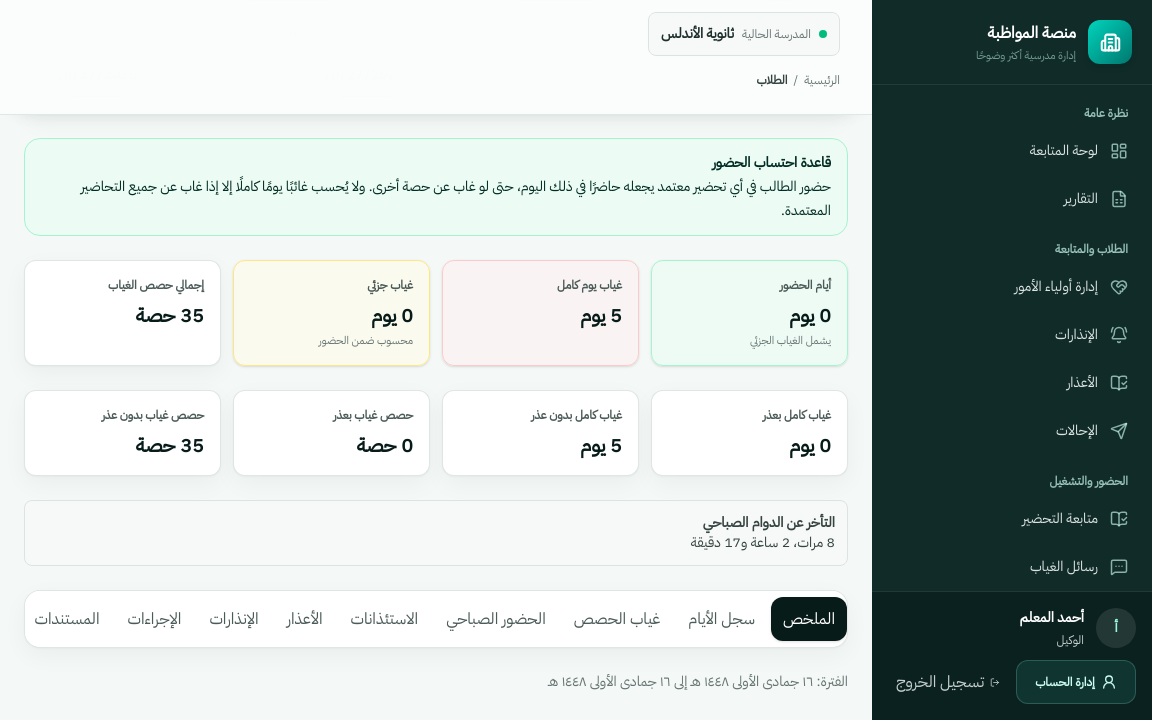
it: student documents tab (Phase 12) › previews before generating and shows the frozen issue value
(page scrolled)
Click the button "المستندات". click: (67, 619)
box: [23,597,112,641]
(page scrolled)
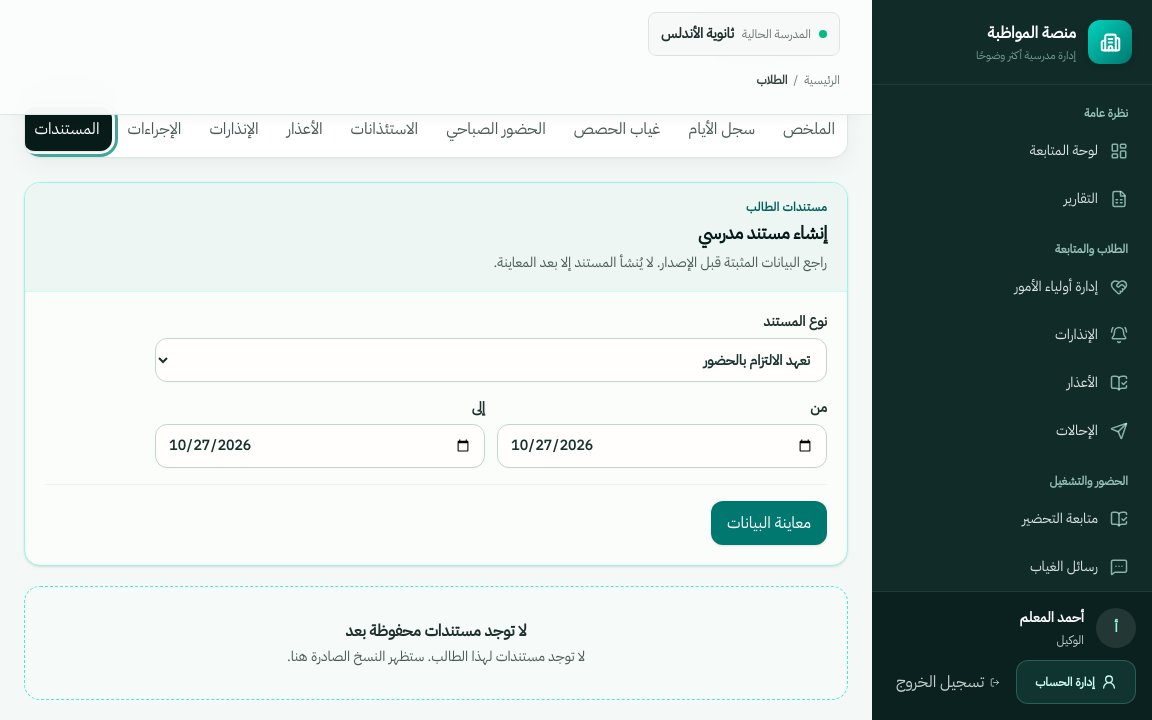
Select "الإنذار الثاني" in the dropdown with test id "document-type". click: (491, 360)
box: [155,338,827,382]
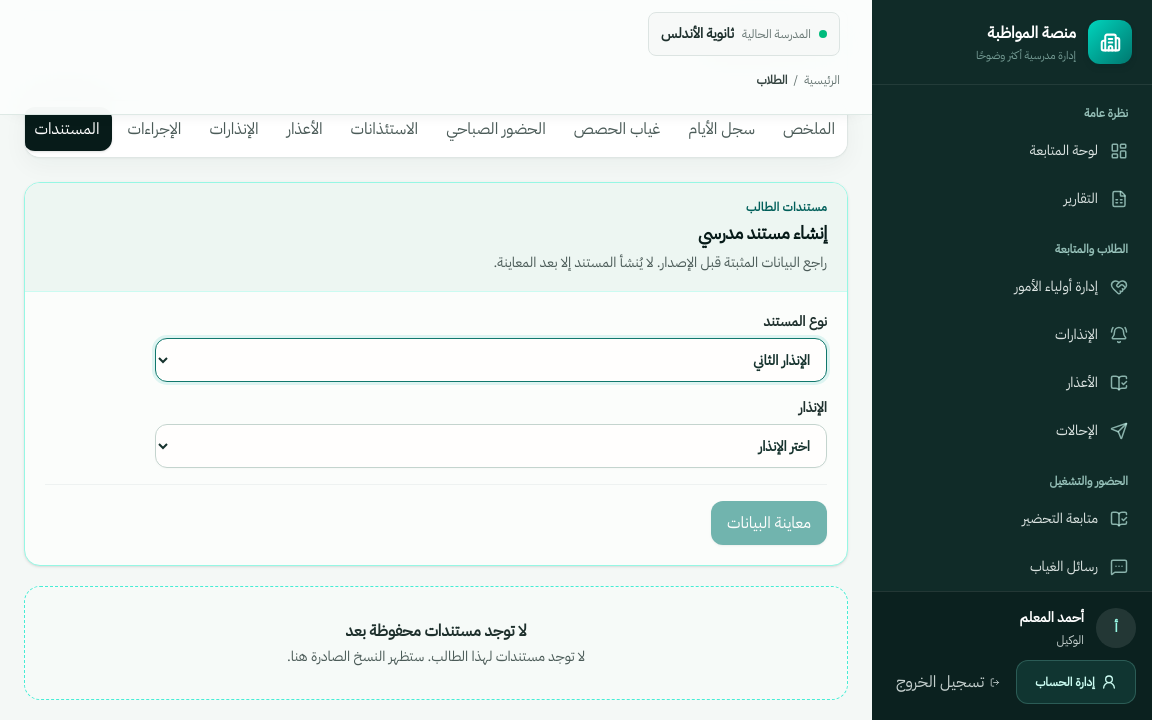
Select "الإنذار الثاني — غياب يوم كامل بدون عذر" in the dropdown with test id "document-warning". click: (491, 446)
box: [155,424,827,468]
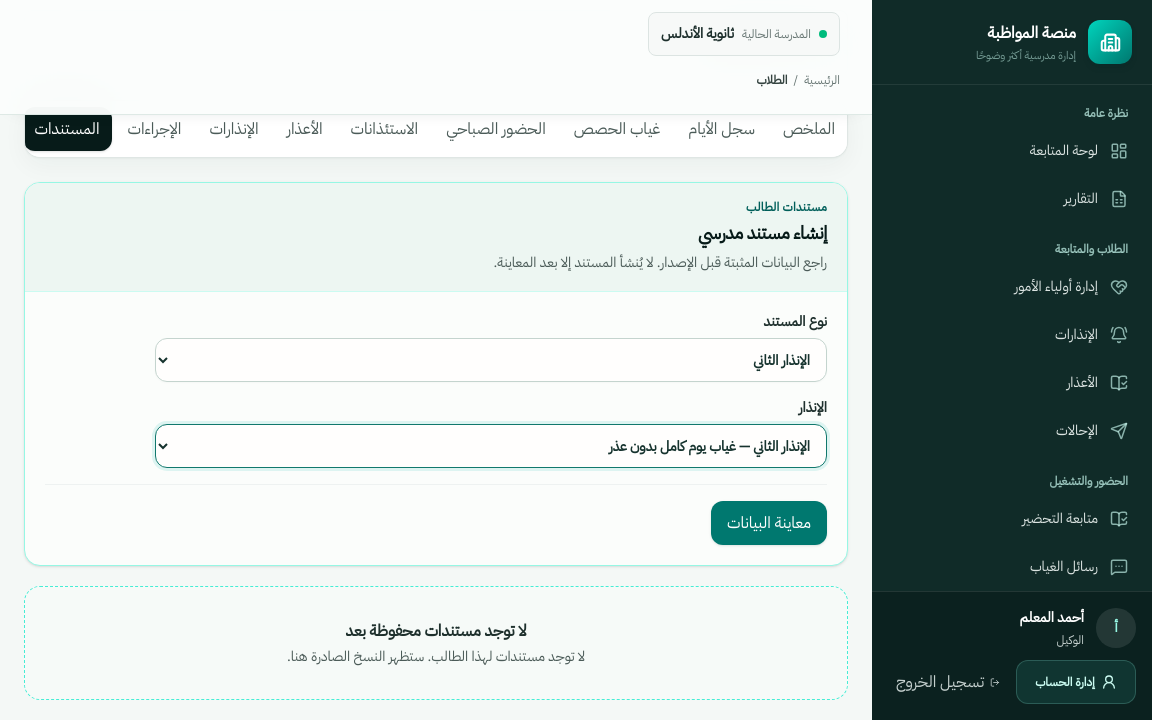
Click the button with test id "preview-document". click: (769, 523)
box: [711,501,827,545]
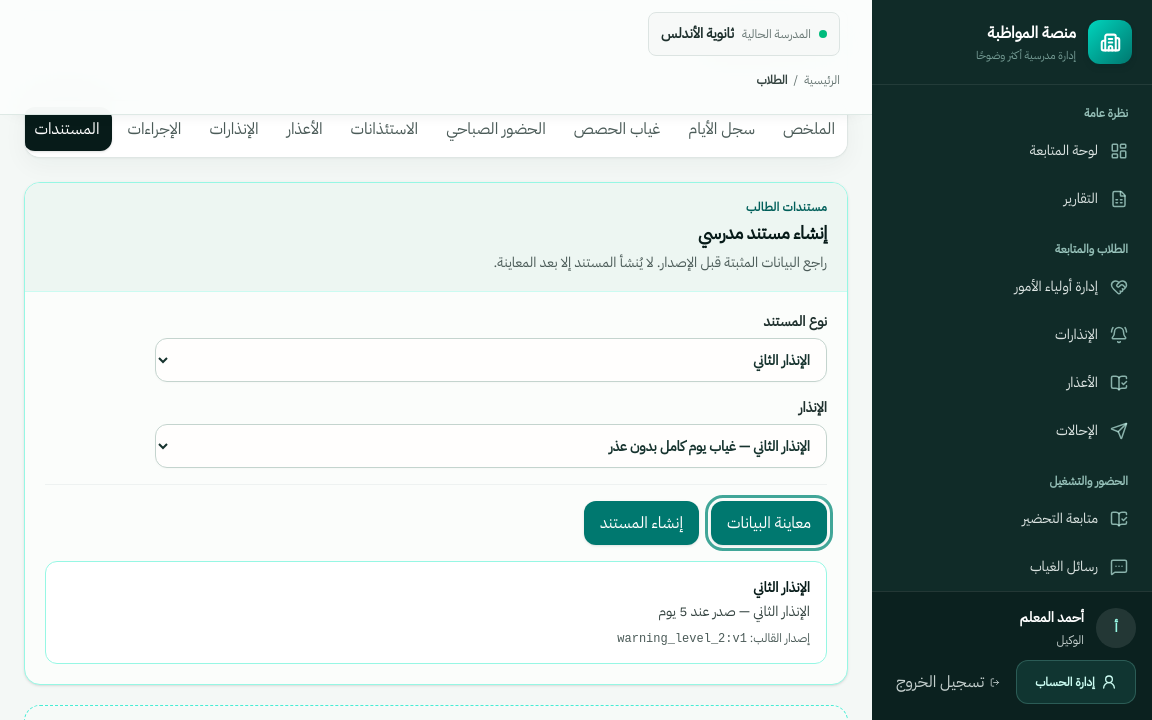
Check: the element with test id "document-preview" shows "الإنذار الثاني", box [753,577,810,598]
Check: the element with test id "document-preview" shows "صدر عند 5 يوم", box [658,601,810,622]
Check: the element with test id "document-preview" shows "warning_level_2:v1", box [617,632,747,646]
